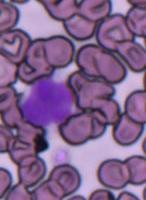M: (22, 77, 74, 127)
